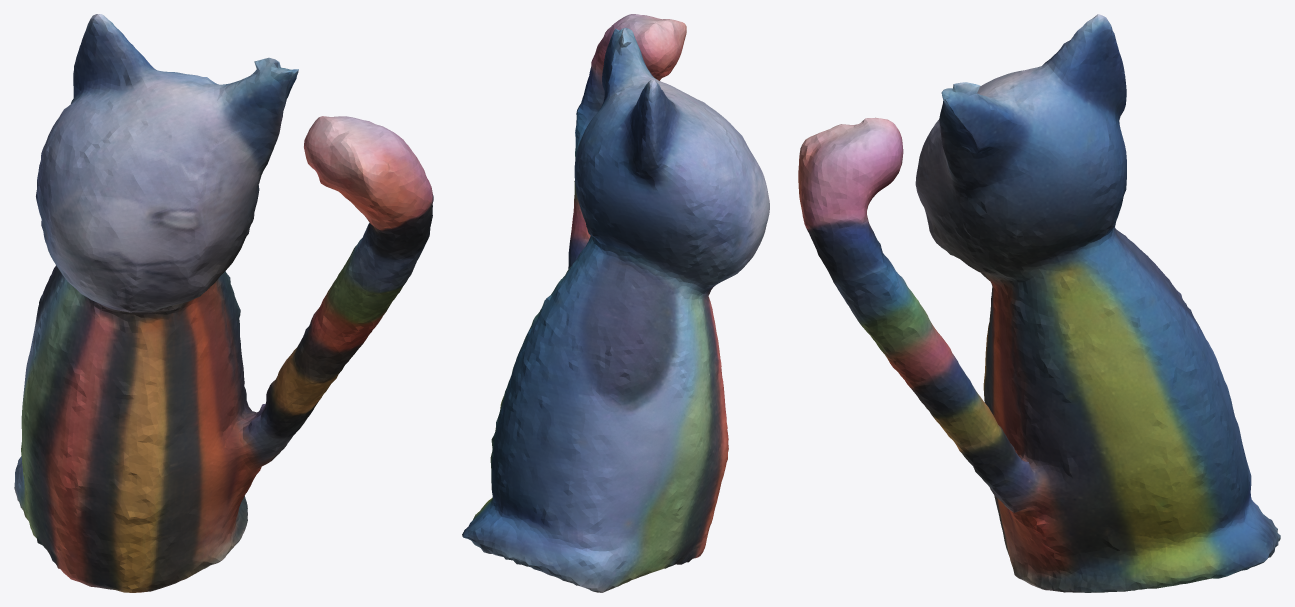
Rendered from catstatue_rgba.glb.
The picture shows the model from 3 angles, left to right: view 1: azimuth 30°, elevation 25°; view 2: azimuth 150°, elevation 25°; view 3: azimuth 270°, elevation 25°; orthographic projection. The views are drawn at different scales.
Bounding box in the file's own units: 0.5475 × 1.02 × 0.8296.
1 material, 1 textured.
